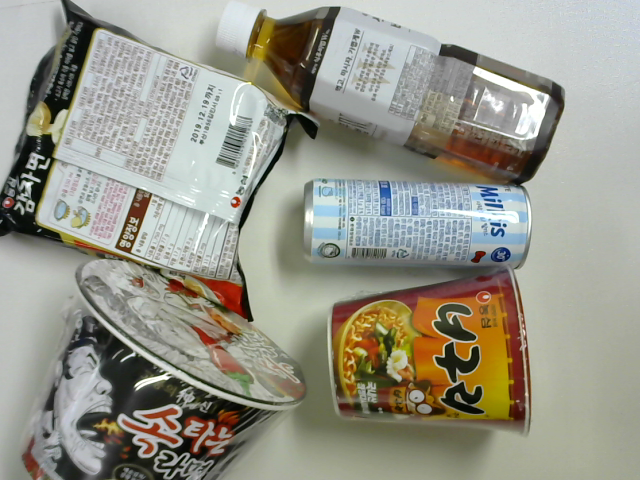HeJangsock: (17, 262, 307, 480)
Milkies_250ml: (299, 178, 539, 264)
Post-meal_recipe_W_tea_500ml: (217, 4, 563, 186)
Potato: (1, 4, 303, 304)
Raccoon: (315, 276, 539, 440)
